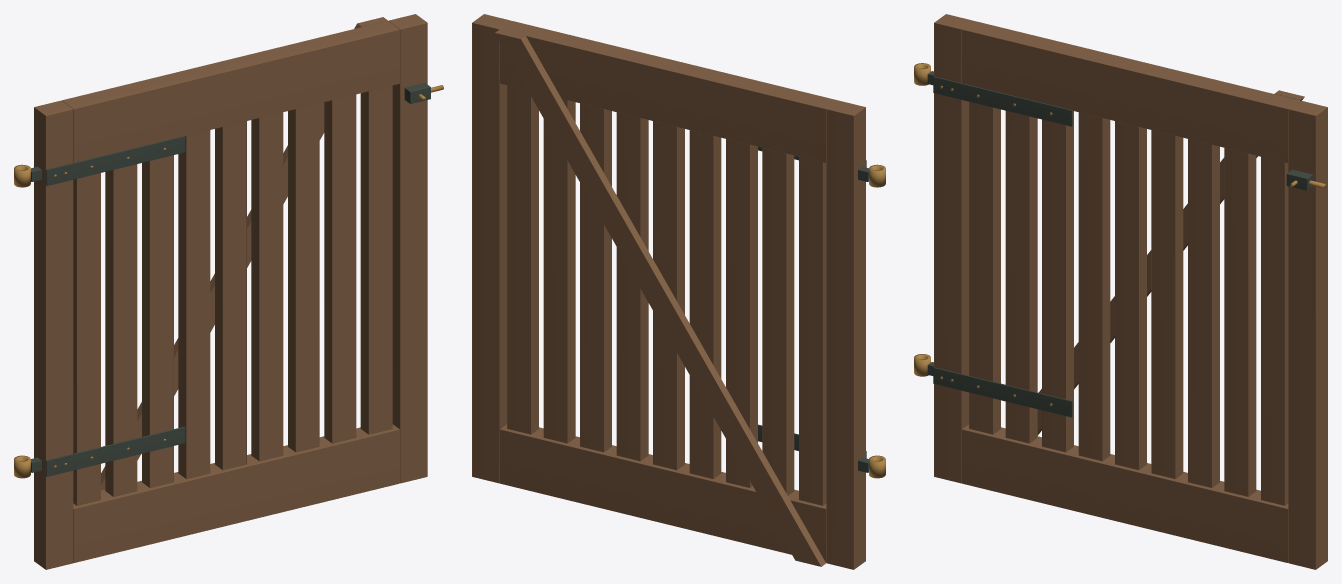
The model's file is rpg-mansion-garden-braced-oak-gate-leaf-01.glb.
3 views of the same model, side by side, from view 1: azimuth 30°, elevation 25°; view 2: azimuth 150°, elevation 25°; view 3: azimuth 330°, elevation 25° (orthographic).
Parts seen in each view (by area): view 1: rpg-mansion-garden-braced-oak-gate-leaf-01; view 2: rpg-mansion-garden-braced-oak-gate-leaf-01; view 3: rpg-mansion-garden-braced-oak-gate-leaf-01.
Boxes of the visible parts, x1,y1,x2,y2 form: rpg-mansion-garden-braced-oak-gate-leaf-01: (14,14,443,569); rpg-mansion-garden-braced-oak-gate-leaf-01: (472,14,885,569); rpg-mansion-garden-braced-oak-gate-leaf-01: (914,14,1327,569).
Bounding box in the file's own units: 1.21 × 1.25 × 0.135.
